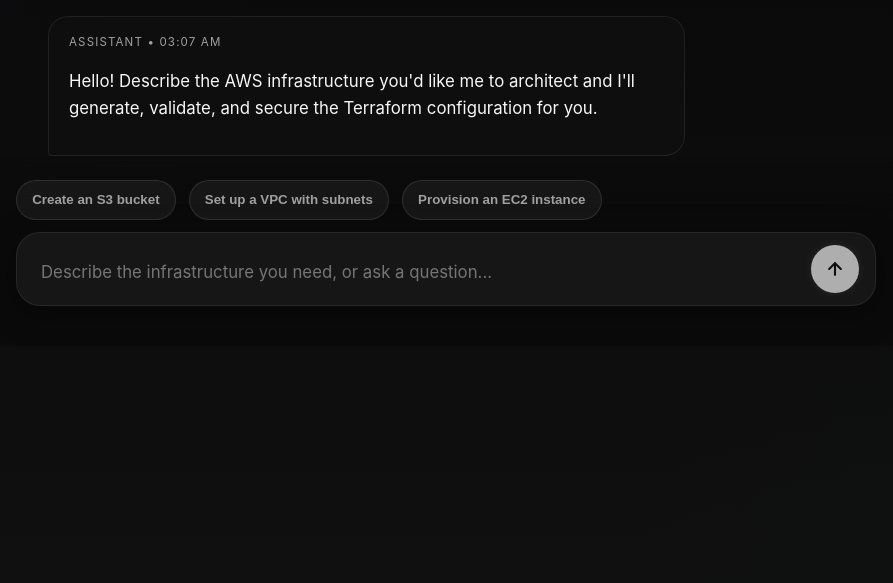
Test: Chat Interface › handles Shift+Enter for newlines and Enter for submission
Note: Type with Shift+Enter
Step 1. Press Enter in the text box with placeholder "Describe the infrastructure you need, or ask a question...", box x1=33 y1=252 x2=795 y2=293
Note: Type and press Enter
Step 2. Type "Submit this" into the text box with placeholder "Describe the infrastructure you need, or ask a question..." → (414, 272), box x1=33 y1=252 x2=795 y2=293
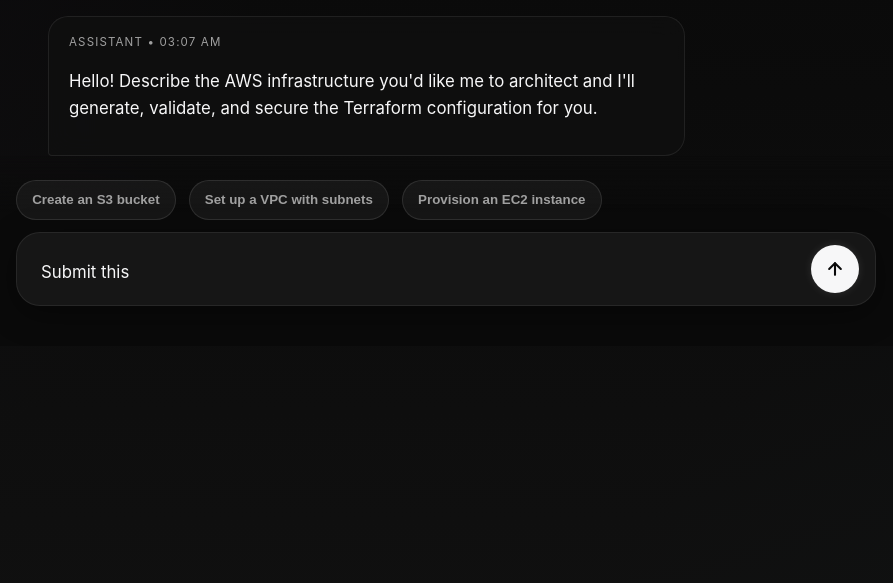
Step 3. Press Enter in the text box with placeholder "Describe the infrastructure you need, or ask a question...", box x1=33 y1=252 x2=795 y2=293
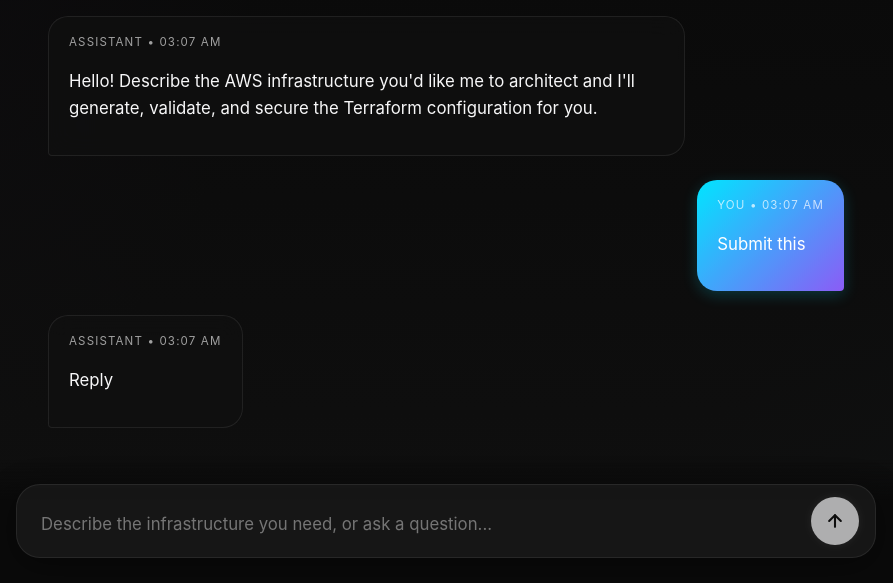
expect the text "Submit this" is shown: met, box x1=717 y1=234 x2=806 y2=254
